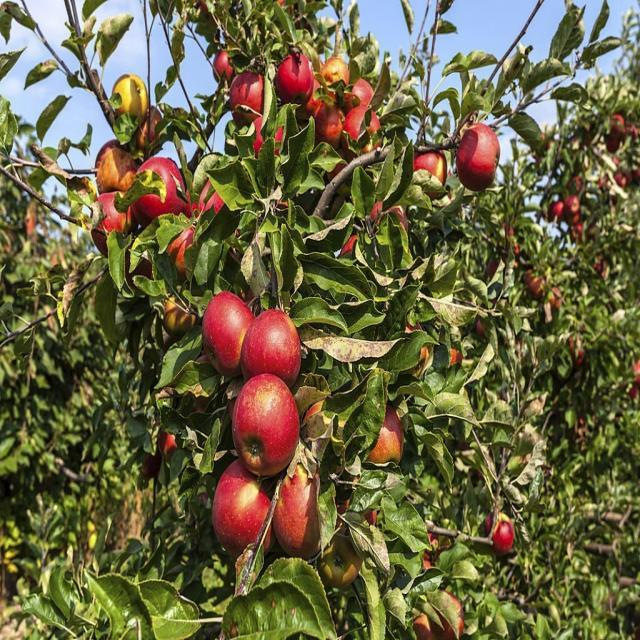Red Apple: (216, 465, 282, 558), (239, 381, 302, 472), (281, 465, 332, 548), (249, 315, 310, 384), (203, 300, 251, 362), (141, 162, 186, 208), (464, 124, 499, 178), (424, 595, 466, 640), (112, 73, 152, 117), (344, 112, 382, 155), (325, 539, 357, 587), (100, 191, 129, 242), (252, 116, 288, 155), (377, 412, 406, 459), (280, 59, 313, 99), (235, 76, 266, 117), (102, 150, 136, 187), (193, 180, 222, 222), (136, 108, 164, 146), (416, 151, 446, 186), (168, 230, 193, 270), (320, 107, 346, 141), (163, 298, 190, 330), (492, 514, 515, 551), (372, 200, 403, 227), (351, 82, 376, 112), (325, 64, 347, 95), (526, 269, 549, 298), (356, 503, 379, 528), (425, 532, 439, 573), (345, 231, 365, 259), (306, 80, 327, 104), (216, 50, 234, 77), (307, 399, 325, 424), (549, 282, 564, 311), (161, 432, 180, 450), (417, 345, 431, 369), (449, 350, 465, 367), (568, 195, 581, 211), (476, 318, 488, 335), (568, 212, 581, 226), (555, 203, 565, 216), (513, 243, 522, 257), (577, 351, 585, 365), (574, 178, 584, 189), (278, 1, 290, 10), (615, 118, 623, 130), (574, 226, 583, 236), (570, 336, 576, 351), (633, 171, 640, 183), (633, 362, 640, 374), (633, 374, 640, 384), (630, 389, 638, 397), (507, 227, 514, 236), (599, 181, 606, 189), (615, 159, 621, 166), (597, 262, 602, 270), (617, 175, 622, 183), (633, 129, 638, 136), (623, 180, 628, 186)
